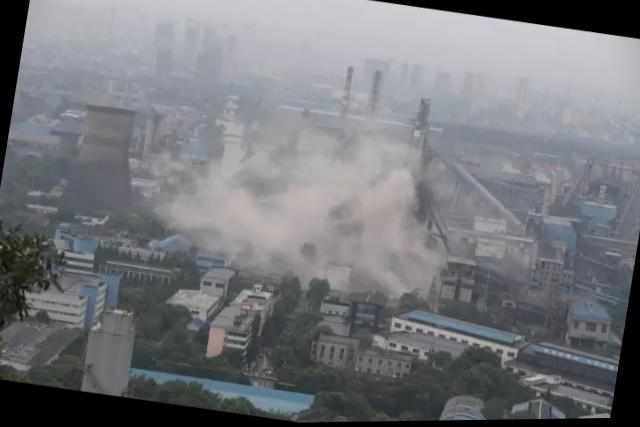smoke: (254, 127, 420, 211), (306, 183, 382, 274), (240, 179, 314, 265), (374, 205, 438, 294), (172, 178, 250, 246)
